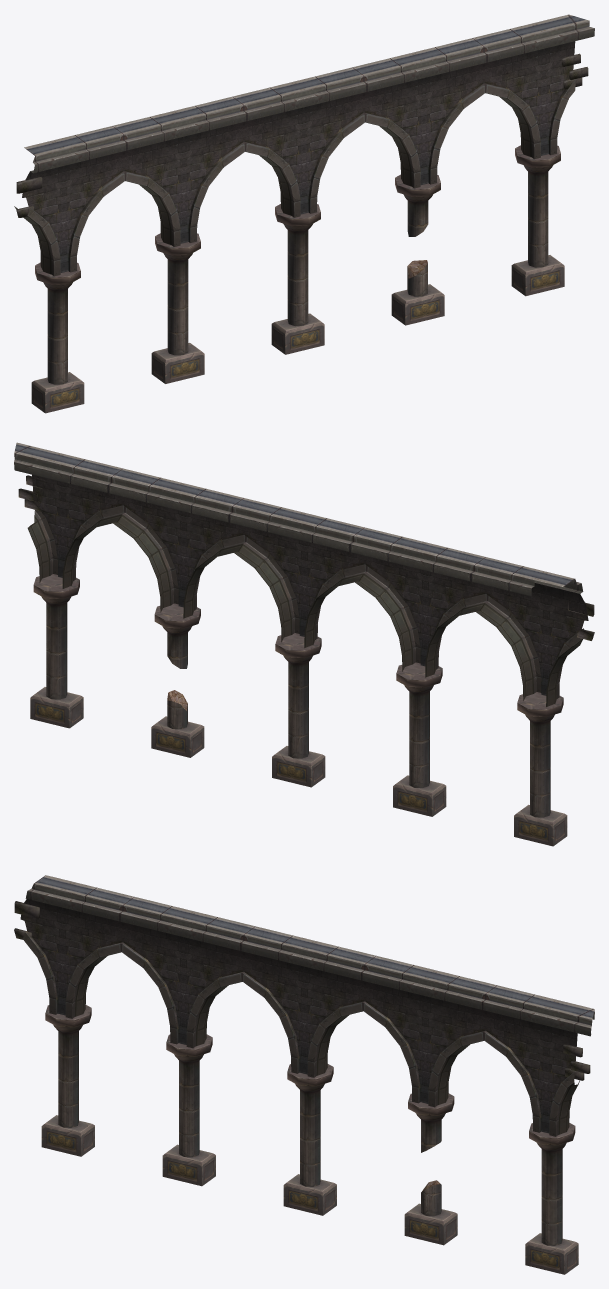
Rendered from front_zhuzi.FBX.
The picture shows the model from 3 angles, top to bottom: view 1: azimuth 30°, elevation 25°; view 2: azimuth 150°, elevation 25°; view 3: azimuth 330°, elevation 25°; orthographic projection.
Parts seen in each view (by area): view 1: Cylinder097, Object516, Cylinder094; view 2: Cylinder097, Object516, Cylinder094; view 3: Cylinder097, Object516, Cylinder094.
Boxes of the visible parts, x1,y1,x2,y2 form: Cylinder097: (14,67,366,413); Object516: (353,38,486,325); Cylinder094: (473,14,594,296); Cylinder097: (229,498,594,846); Object516: (108,468,245,757); Cylinder094: (14,442,124,728); Cylinder097: (14,875,376,1215); Object516: (361,956,496,1245); Cylinder094: (482,985,594,1274).
Size of the model in its own units: 2437 by 1047 by 174.
